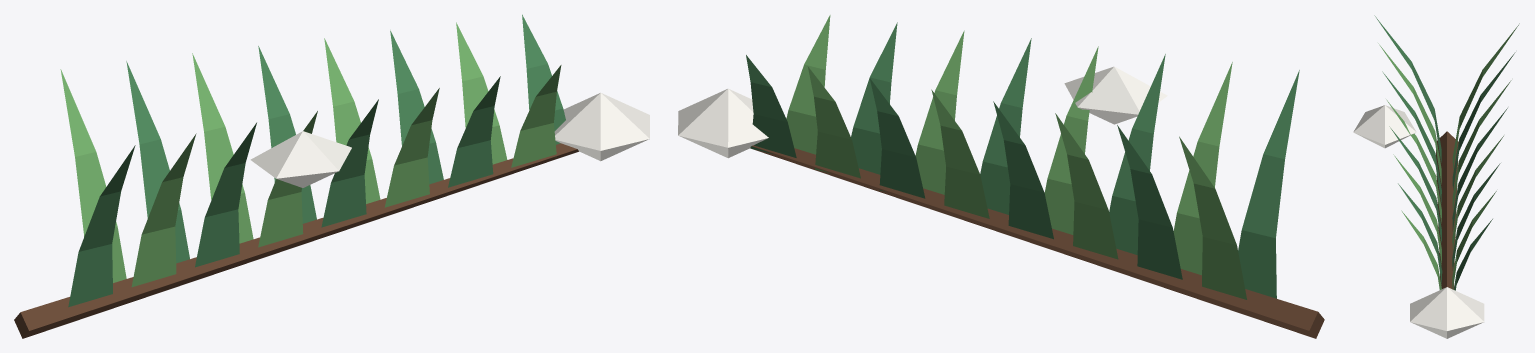
Rendered from deco_pine_sprig.obj.
3 renders of one model, left to right at view 1: azimuth 30°, elevation 25°; view 2: azimuth 150°, elevation 25°; view 3: azimuth 270°, elevation 25°, orthographic. The views are drawn at different scales.
Visible parts, largest first — view 1: deco_pine_sprig; view 2: deco_pine_sprig; view 3: deco_pine_sprig.
Boxes of the visible parts, bbox=[...] form: deco_pine_sprig: bbox=[14, 14, 649, 338]; deco_pine_sprig: bbox=[678, 15, 1324, 338]; deco_pine_sprig: bbox=[1353, 15, 1519, 338].
Size of the model in its own units: 0.0576 by 0.0187 by 0.0175.
1 material, 1 textured.
